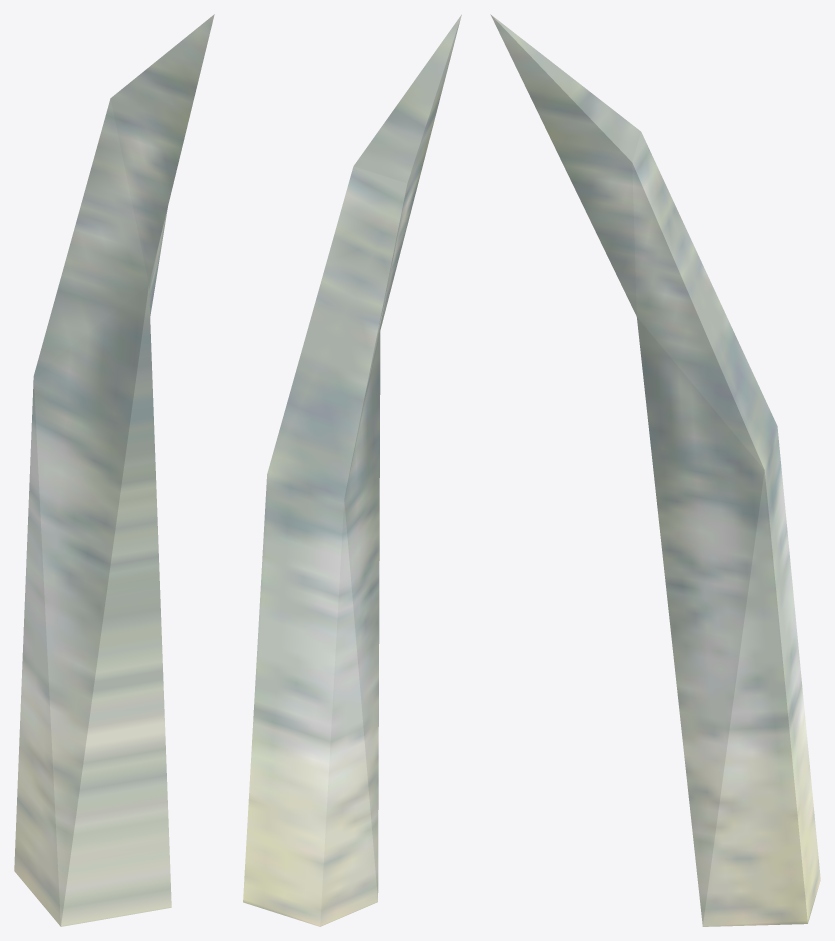
File: rib05.glb
3 views of the same model, side by side, from view 1: azimuth 30°, elevation 25°; view 2: azimuth 150°, elevation 25°; view 3: azimuth 270°, elevation 25° (orthographic). The views are drawn at different scales.
Visible parts, largest first — view 1: rib05; view 2: rib05; view 3: rib05.
Boxes of the visible parts, x1,y1,x2,y2 form: rib05: (14, 14, 214, 926); rib05: (243, 14, 461, 926); rib05: (490, 14, 820, 926).
Size of the model in its own units: 283 by 2341 by 797.
Materials: 1 (1 with a texture image).
